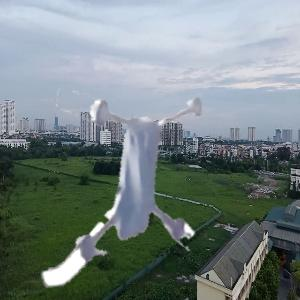drone: (18, 77, 226, 285)
